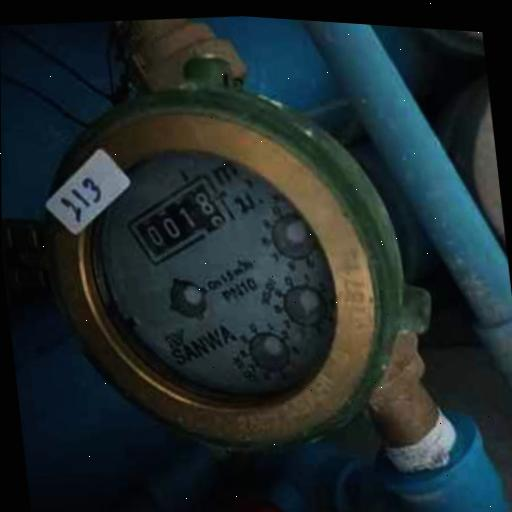0: (131, 213, 173, 263), (149, 200, 190, 250)
1: (166, 191, 205, 238)
8: (183, 180, 229, 238)
border_water_meter_number: (117, 163, 241, 277)
